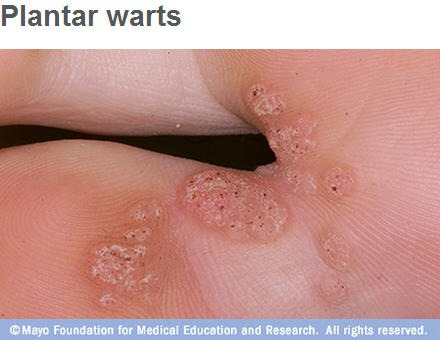Warts: (27, 240, 123, 340)
